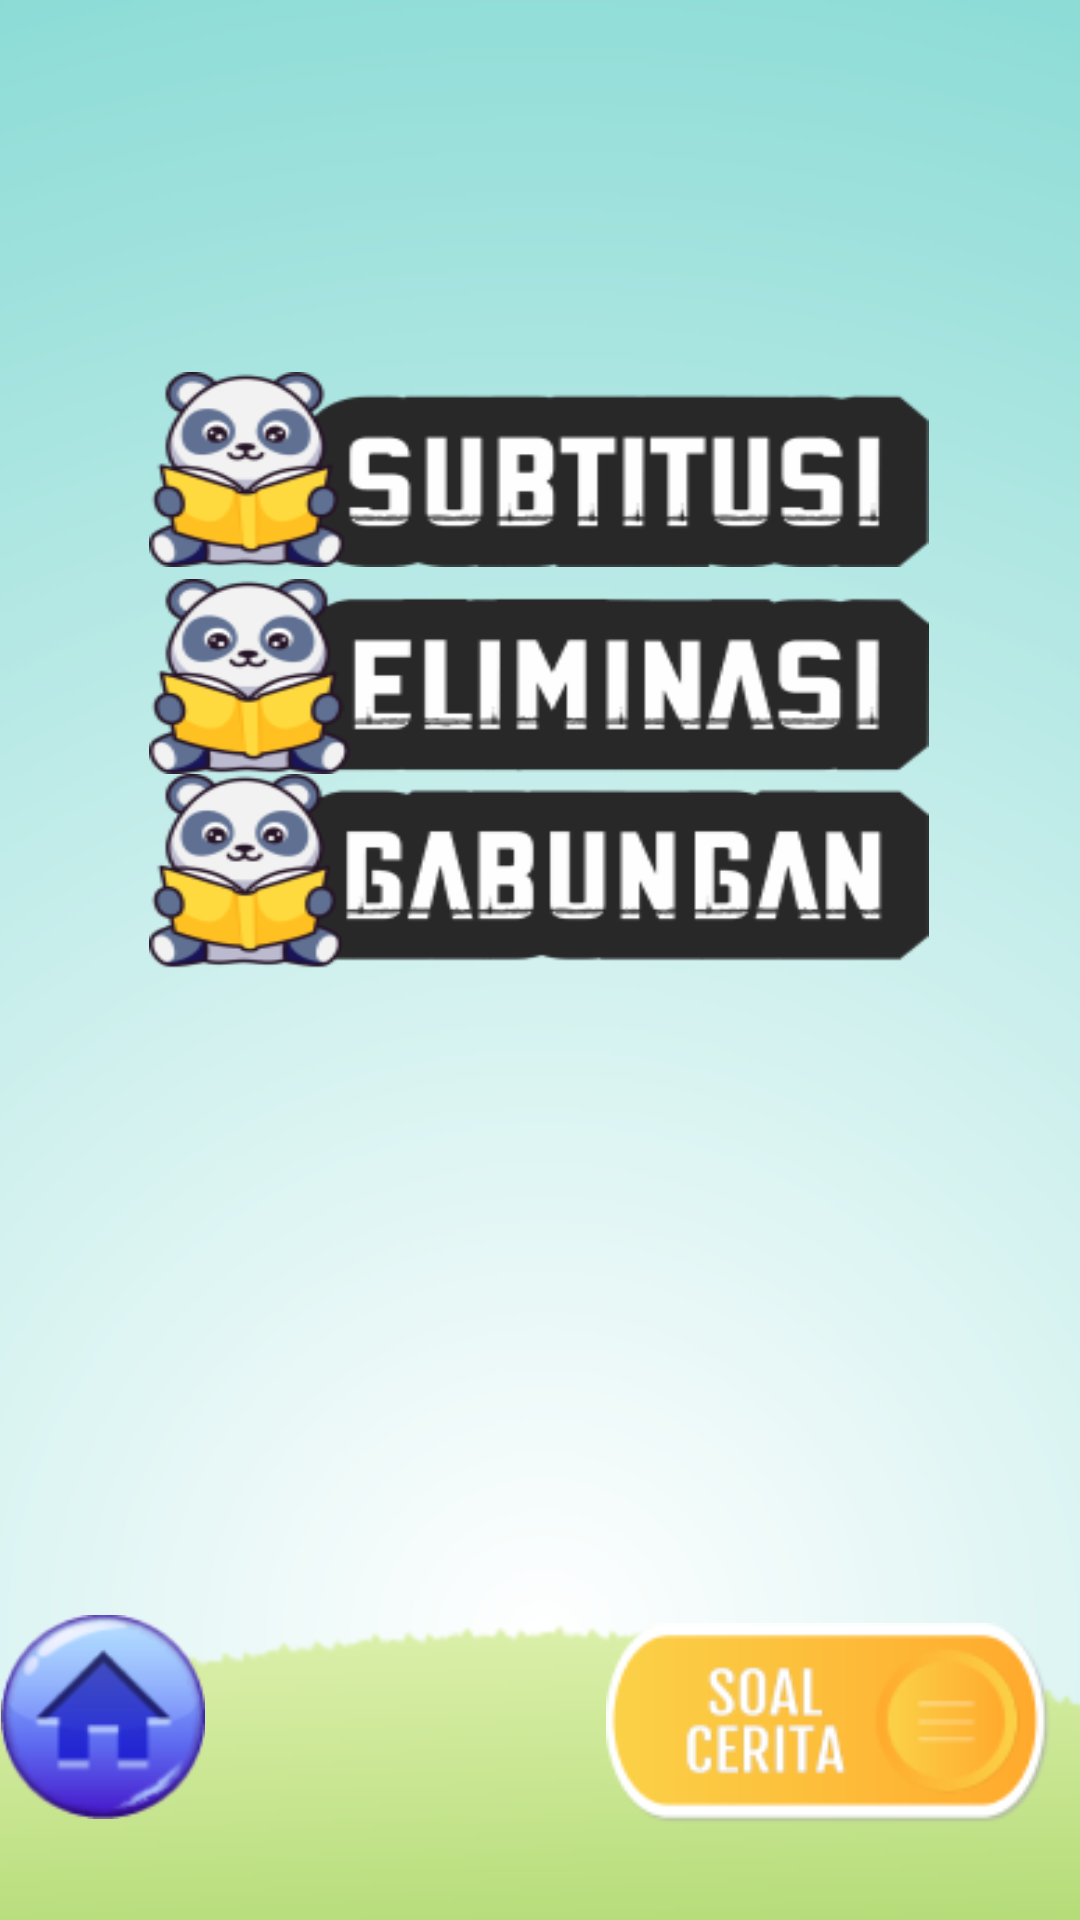

Icon click points for this 1080*1920 phone screenshot, format point (x, y):
home: point (103, 1717)
